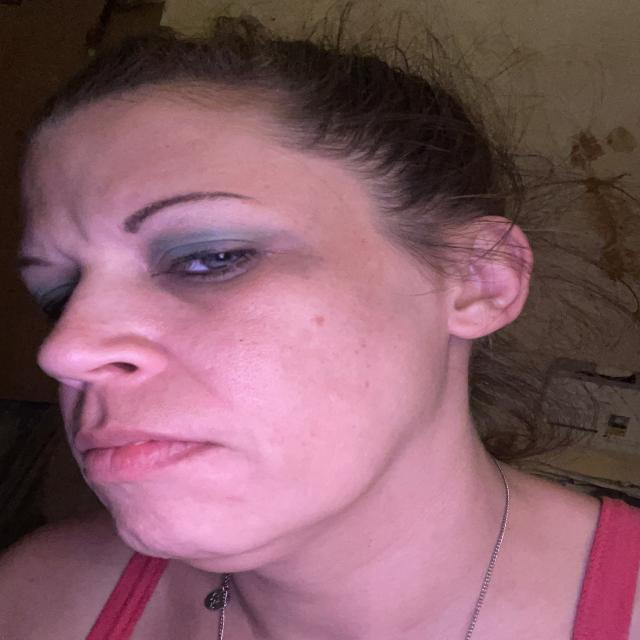Acne: (213, 494, 252, 506), (310, 312, 332, 328), (360, 376, 376, 391)
Englarged-Pores: (180, 336, 280, 390)
Eyebags: (158, 256, 295, 312)
Wrinkles: (165, 350, 234, 418), (244, 424, 262, 487), (67, 199, 84, 241)
